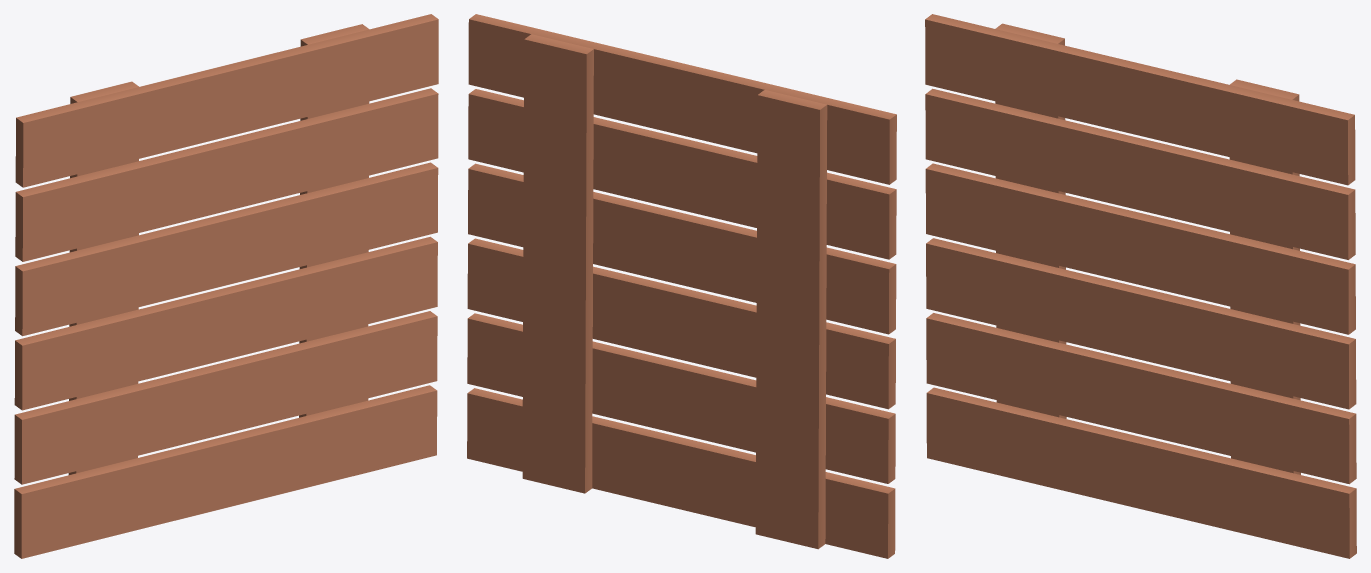
File: planks.104_lev4.glb
The picture shows the model from 3 angles, left to right: view 1: azimuth 30°, elevation 25°; view 2: azimuth 150°, elevation 25°; view 3: azimuth 330°, elevation 25°; orthographic projection.
Parts seen in each view (by area): view 1: planks.104_lev4; view 2: planks.104_lev4; view 3: planks.104_lev4.
Part boxes in pixels (x1,y1,x2,y2): planks.104_lev4: (14,14,438,558); planks.104_lev4: (467,14,896,558); planks.104_lev4: (925,14,1356,558).
Bounding box in the file's own units: 7.11 × 7.11 × 0.538.
Materials: 1 (1 with a texture image).
